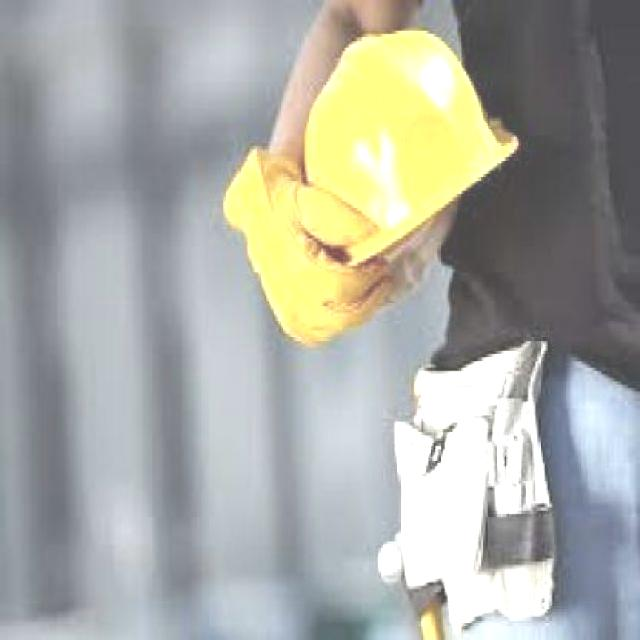Gloves: (222, 137, 390, 346)
Helmet: (304, 18, 524, 244)
